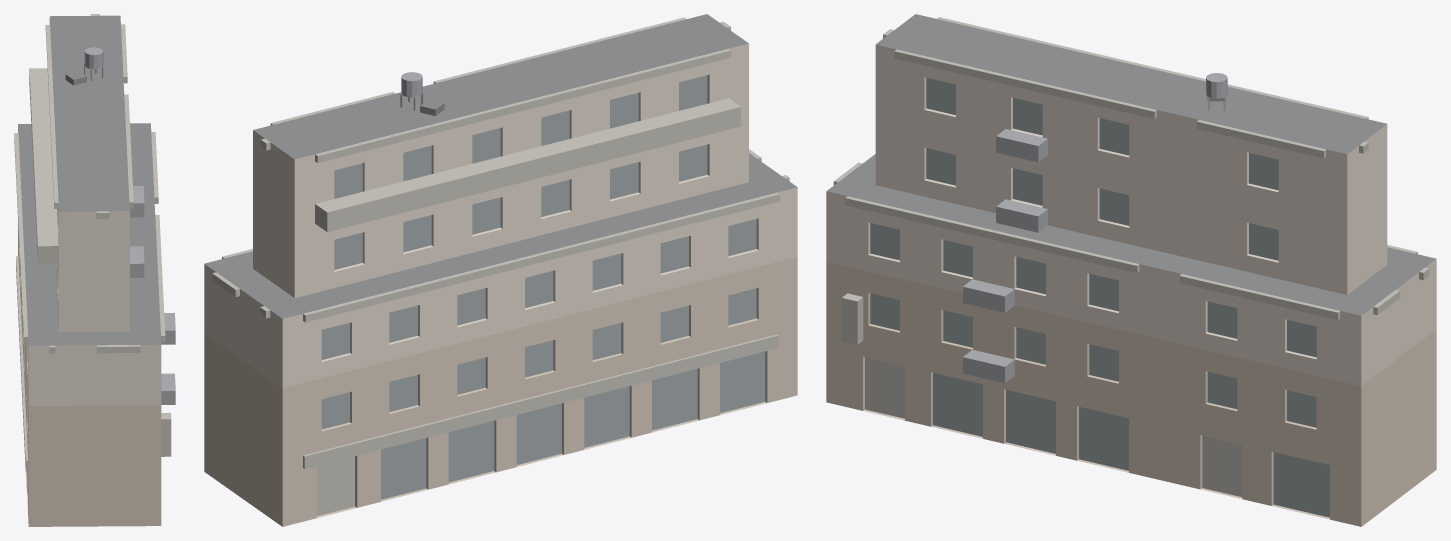
File: doitt-502491__lod_0.glb
3 renders of one model, left to right at view 1: azimuth 30°, elevation 25°; view 2: azimuth 150°, elevation 25°; view 3: azimuth 270°, elevation 25°, orthographic. The views are drawn at different scales.
Size of the model in its own units: 21.45 by 21.01 by 30.43.
